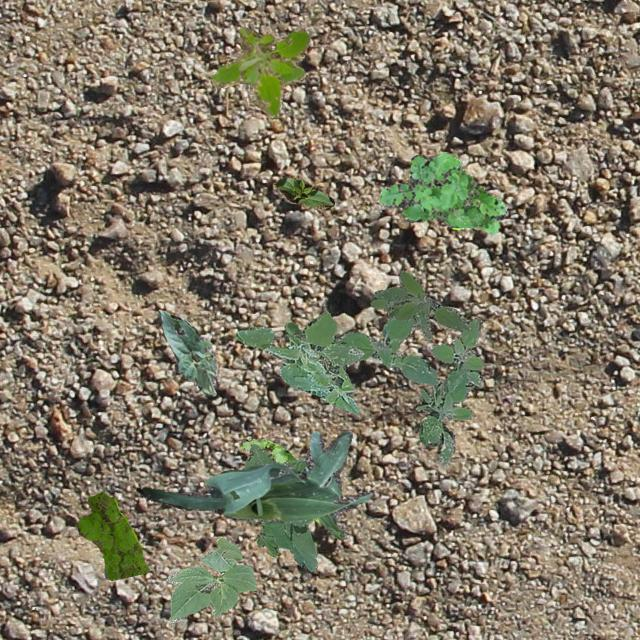crop: (136, 429, 370, 538), (165, 536, 255, 624), (156, 308, 216, 396), (272, 174, 334, 210)
weed: (334, 316, 482, 468), (235, 312, 362, 414), (378, 152, 506, 234), (242, 442, 316, 572), (210, 26, 308, 116), (370, 270, 470, 340), (239, 437, 321, 522), (76, 492, 148, 580)
